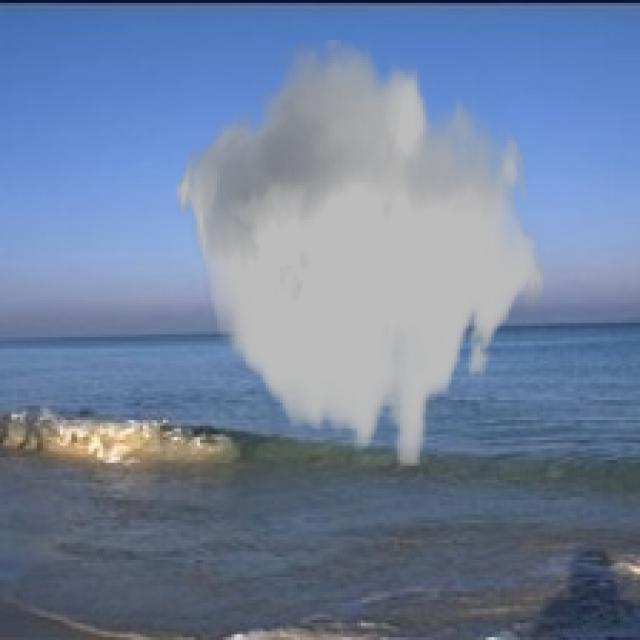Smoke: (174, 40, 546, 466)
